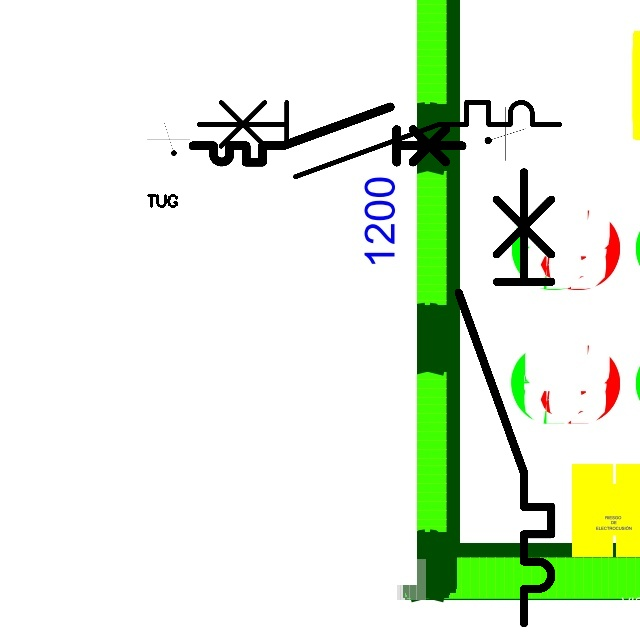interruptor_termomagnetico: (447, 160, 563, 635), (189, 93, 568, 186), (186, 100, 469, 169)
